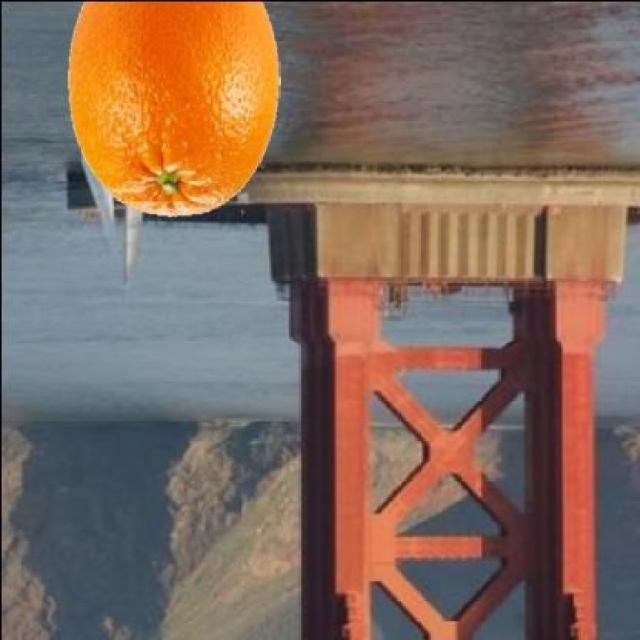Orange: (65, 0, 280, 217)
